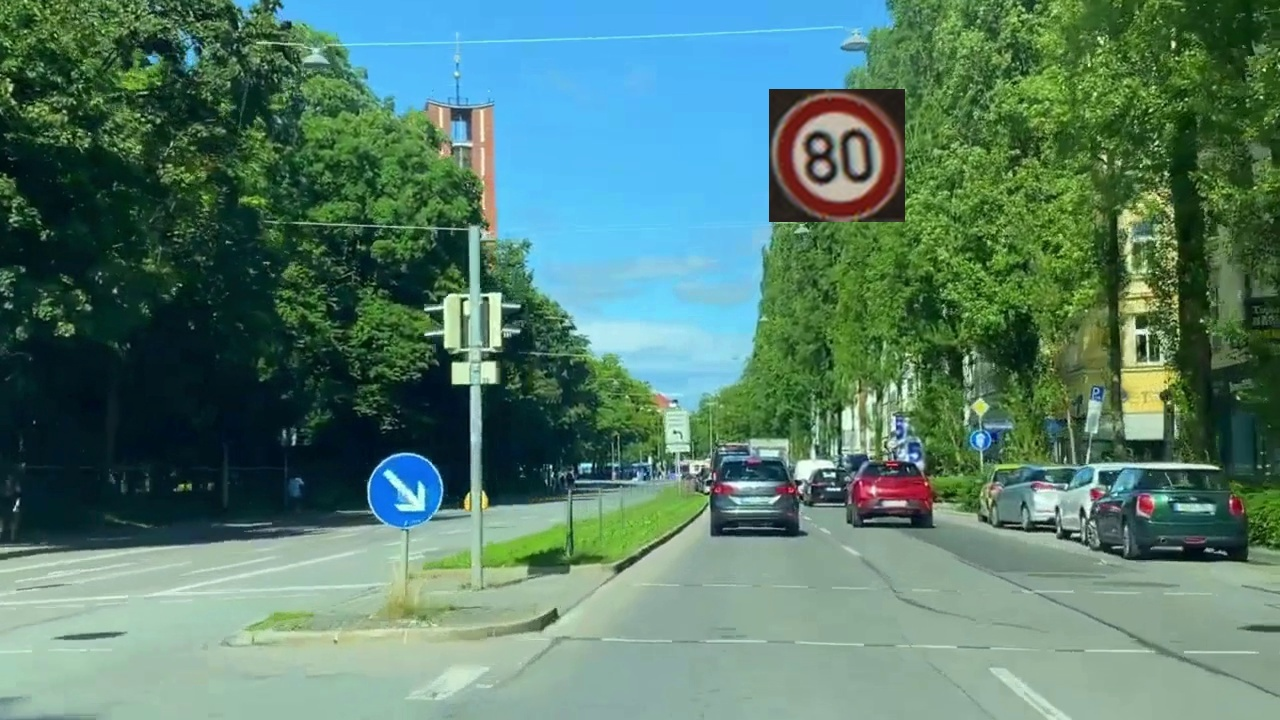Speed 80: (769, 89, 905, 222)
